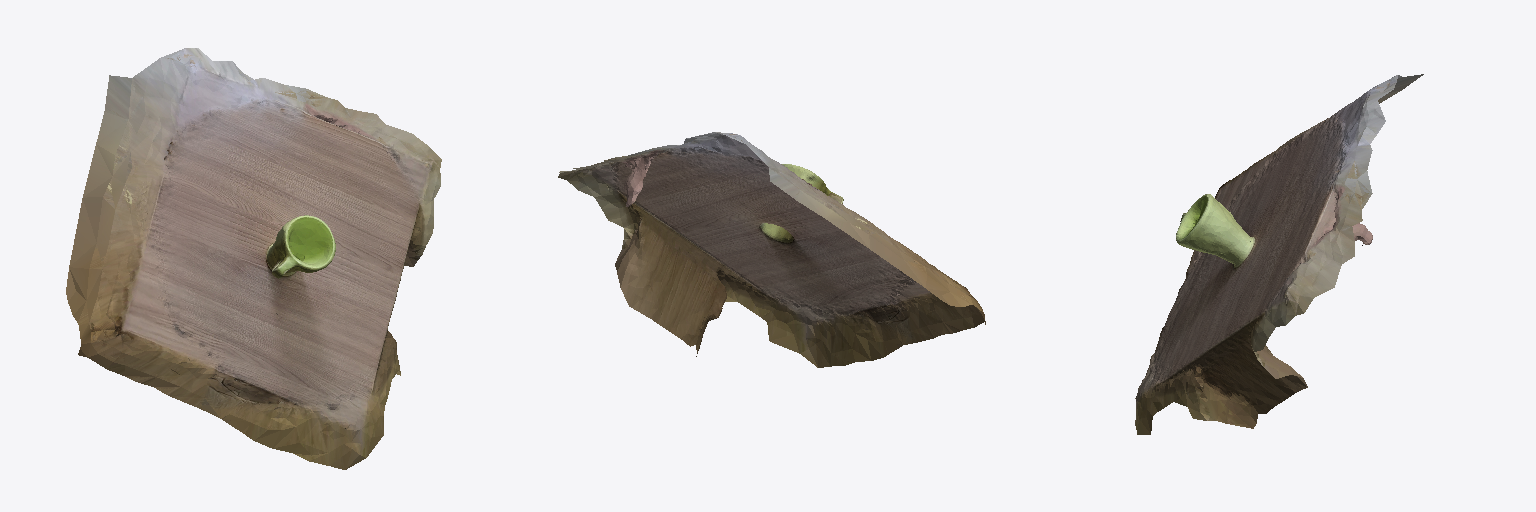
3 views of the same model, side by side, from view 1: azimuth 30°, elevation 25°; view 2: azimuth 150°, elevation 25°; view 3: azimuth 270°, elevation 25° (orthographic).
Bounding box in the file's own units: 39.89 × 32.33 × 25.25.
1 materials, 1 textured.